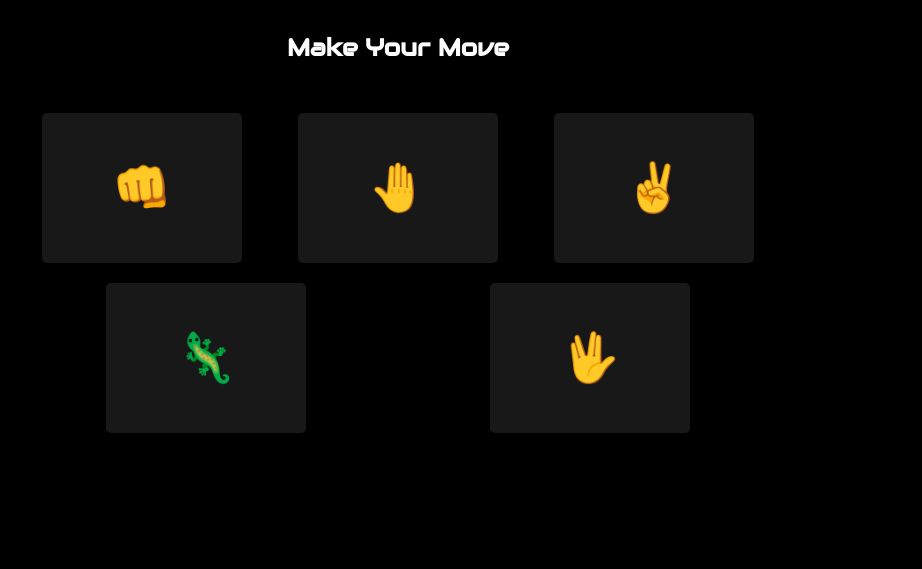
Test case: Game Component › should display result after making a move
The width and height of the screenshot is (922, 569).
Click the button "👊" at (142, 188), box [42,113,242,263]
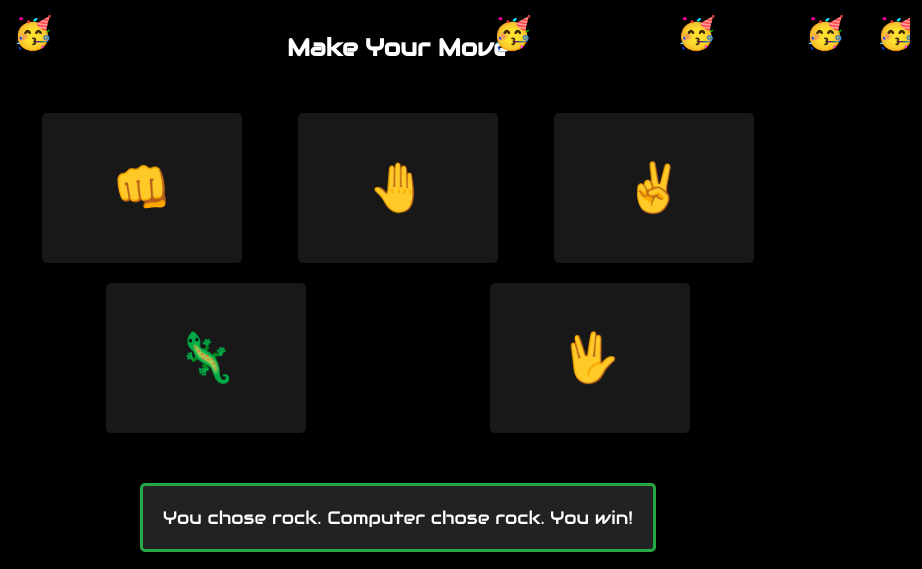
Check: the text "You chose rock. Computer chose rock. You win!" is shown, box [140,483,656,552]
